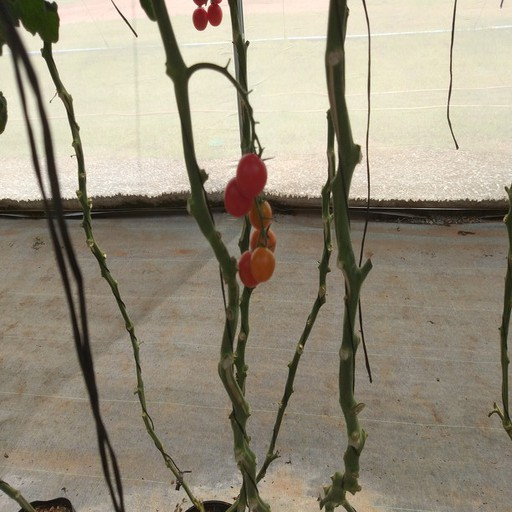red tomato bunch: (225, 153, 278, 290), (192, 1, 225, 30)
